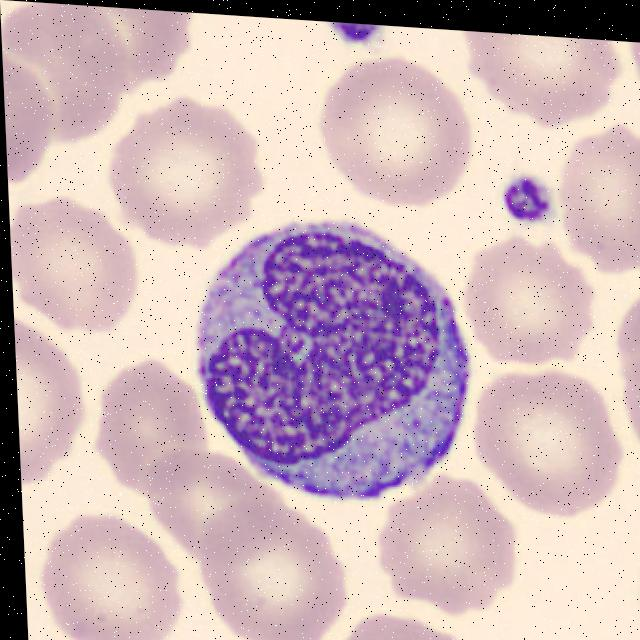monocyte: (174, 198, 479, 524)
platelets: (495, 169, 559, 228), (320, 21, 390, 44)
rbc: (105, 86, 275, 254), (315, 52, 479, 210), (187, 492, 361, 640), (369, 462, 521, 622), (466, 364, 619, 515), (458, 239, 596, 394), (86, 342, 216, 505), (30, 504, 180, 640), (9, 192, 144, 341), (144, 441, 293, 573), (0, 0, 127, 154), (463, 31, 632, 137), (14, 304, 89, 510), (49, 3, 205, 97), (557, 123, 640, 274), (2, 49, 54, 206), (328, 608, 484, 640), (617, 279, 640, 480), (632, 513, 640, 640)
